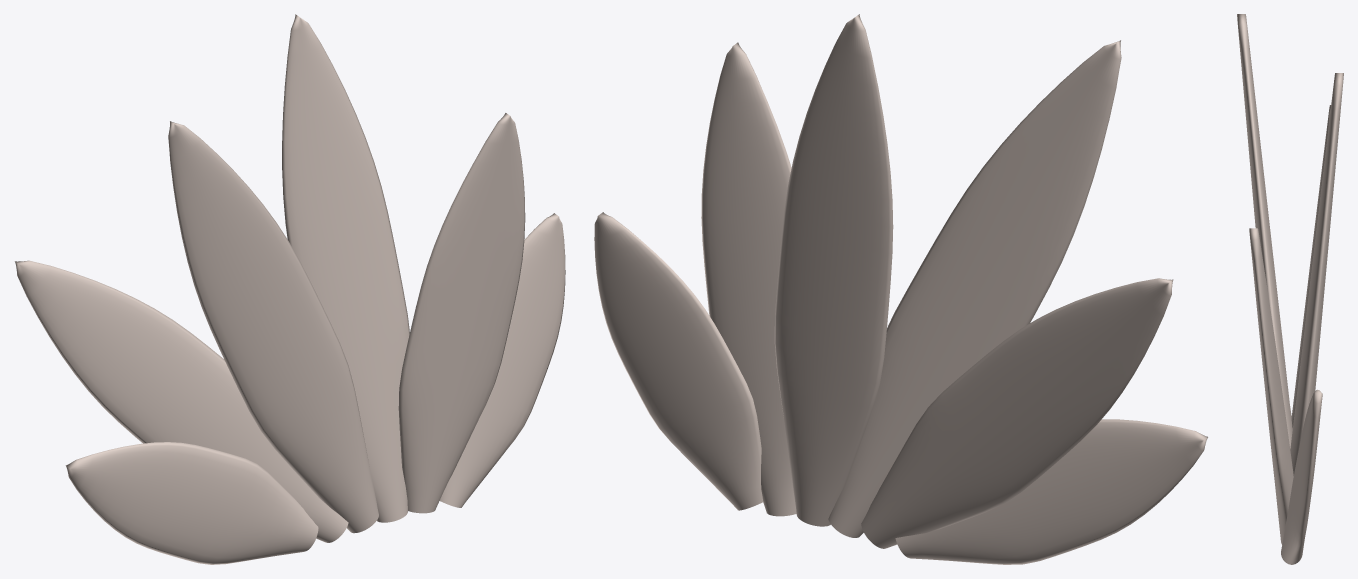
The model's file is creature.crestfeathers.glb.
3 renders of one model, left to right at view 1: azimuth 30°, elevation 25°; view 2: azimuth 150°, elevation 25°; view 3: azimuth 270°, elevation 25°, orthographic. The views are drawn at different scales.
Visible parts, largest first — view 1: Fin; view 2: Fin; view 3: Fin.
Part boxes in pixels (<box>): Fin: <box>14,14,565,564</box>; Fin: <box>594,14,1207,564</box>; Fin: <box>1237,14,1343,564</box>.
Size of the model in its own units: 0.9725 by 0.8815 by 0.1939.
